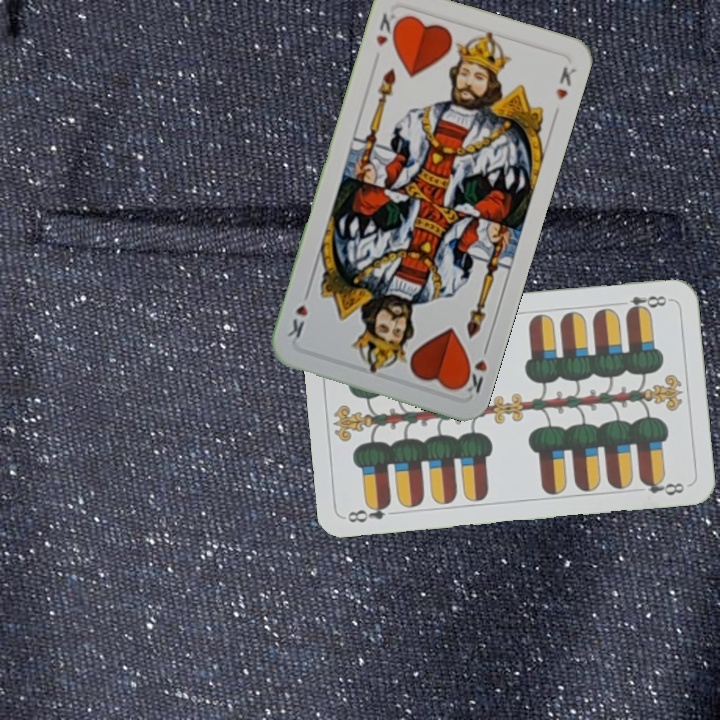E8: (613, 291, 672, 316), (344, 498, 394, 526)
HK: (456, 340, 492, 397), (371, 9, 403, 49)
